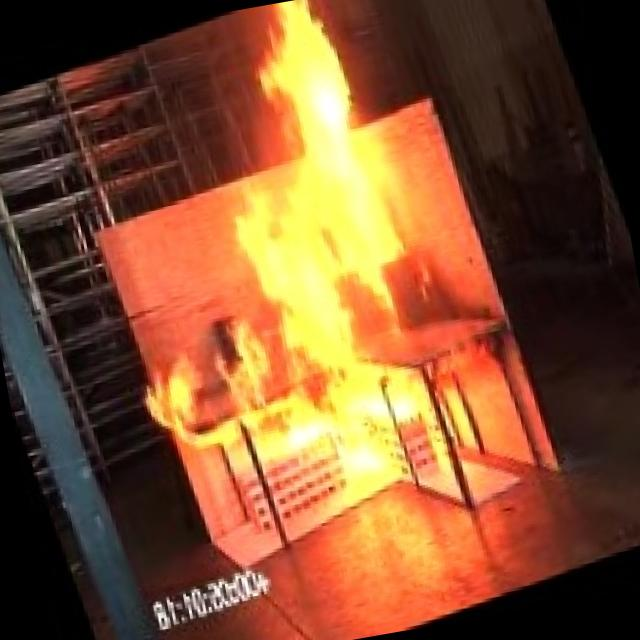fire: (21, 0, 536, 579)
